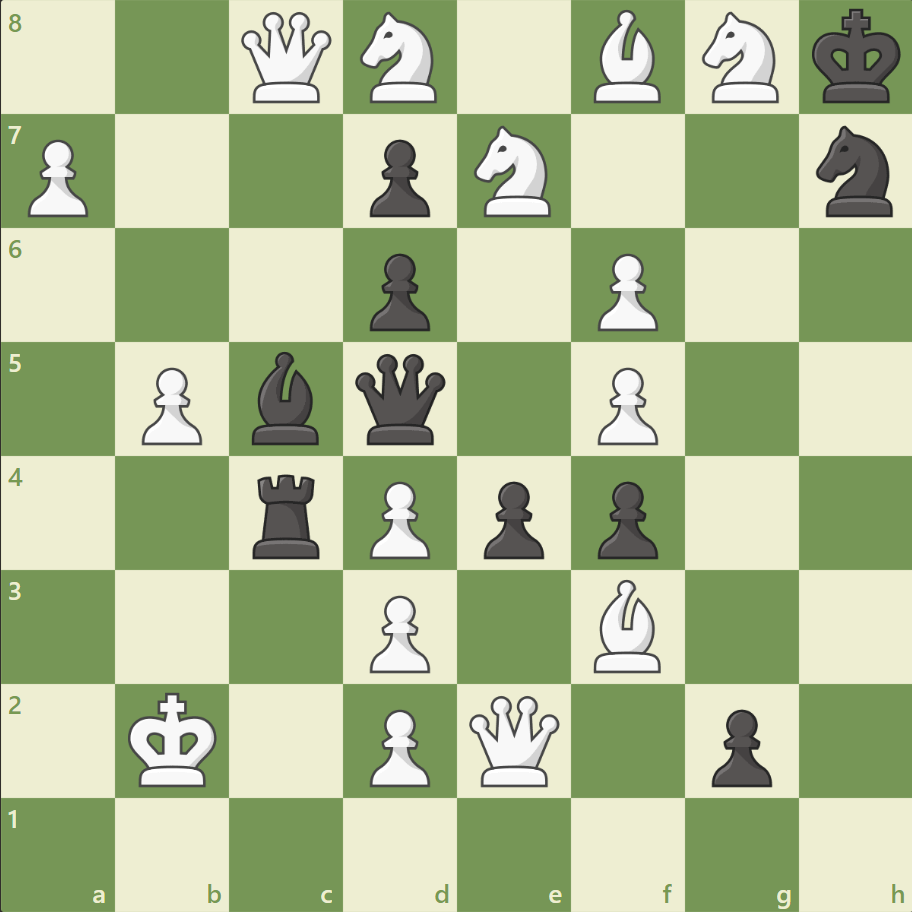B: (585, 6, 669, 109), (585, 574, 669, 676)
K: (124, 685, 224, 793)
N: (351, 7, 449, 110), (692, 7, 789, 110), (465, 121, 562, 223)
P: (20, 132, 95, 223), (133, 359, 208, 450), (588, 246, 662, 337), (588, 359, 662, 450), (361, 473, 435, 564), (361, 586, 435, 677), (361, 700, 435, 791)
Q: (237, 9, 336, 108), (464, 690, 563, 789)
b: (244, 347, 328, 449)
k: (806, 4, 906, 112)
n: (806, 121, 903, 223)
p: (474, 473, 549, 564), (701, 700, 776, 791), (361, 132, 435, 223), (361, 246, 435, 337), (588, 473, 662, 564)
q: (351, 349, 450, 449)
r: (246, 466, 329, 563)
